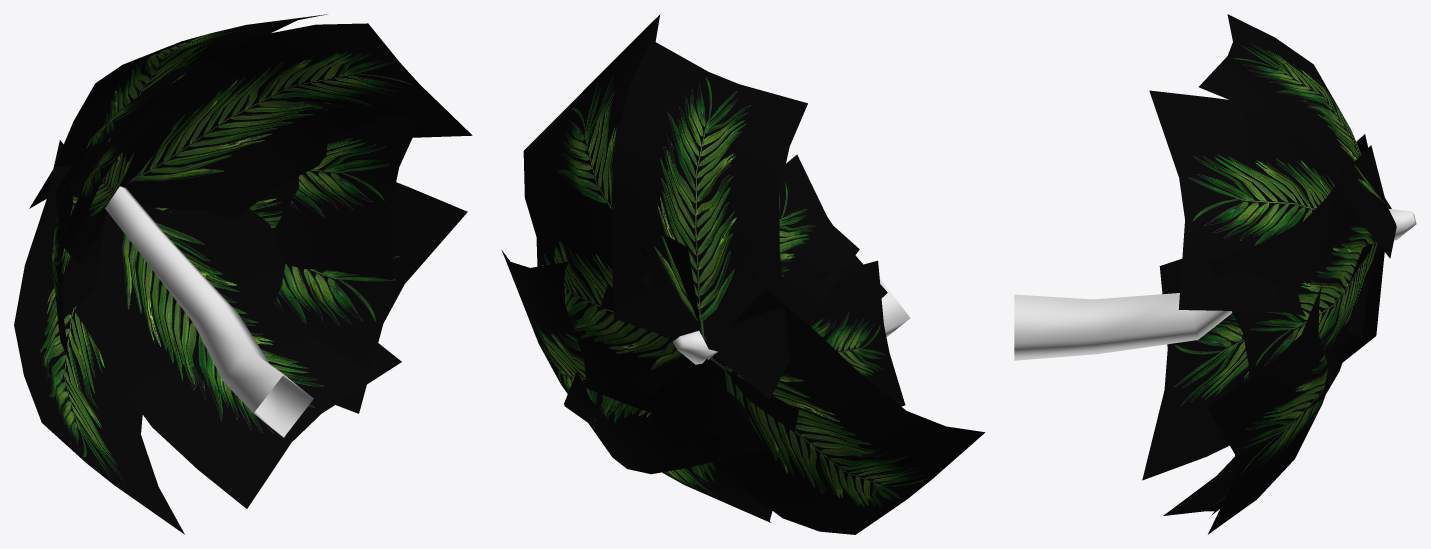
File: Tree2.fbx
3 renders of one model, left to right at view 1: azimuth 30°, elevation 25°; view 2: azimuth 150°, elevation 25°; view 3: azimuth 270°, elevation 25°, orthographic. The views are drawn at different scales.
Visible parts, largest first — view 1: TreeLeaf.002; view 2: TreeLeaf.002; view 3: TreeLeaf.002.
Part boxes in pixels (left/top/right/bottom): TreeLeaf.002: left=14, top=14, right=472, bottom=534; TreeLeaf.002: left=501, top=14, right=985, bottom=534; TreeLeaf.002: left=1014, top=14, right=1416, bottom=534.
Bounding box in the file's own units: 1485 × 1466 × 1101.
